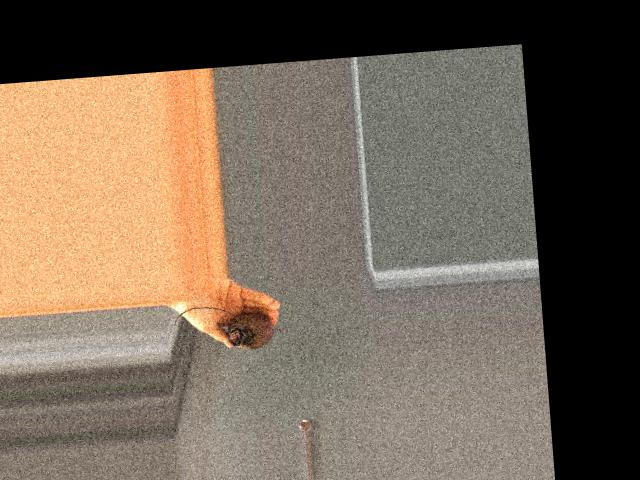beet: (174, 299, 288, 354)
